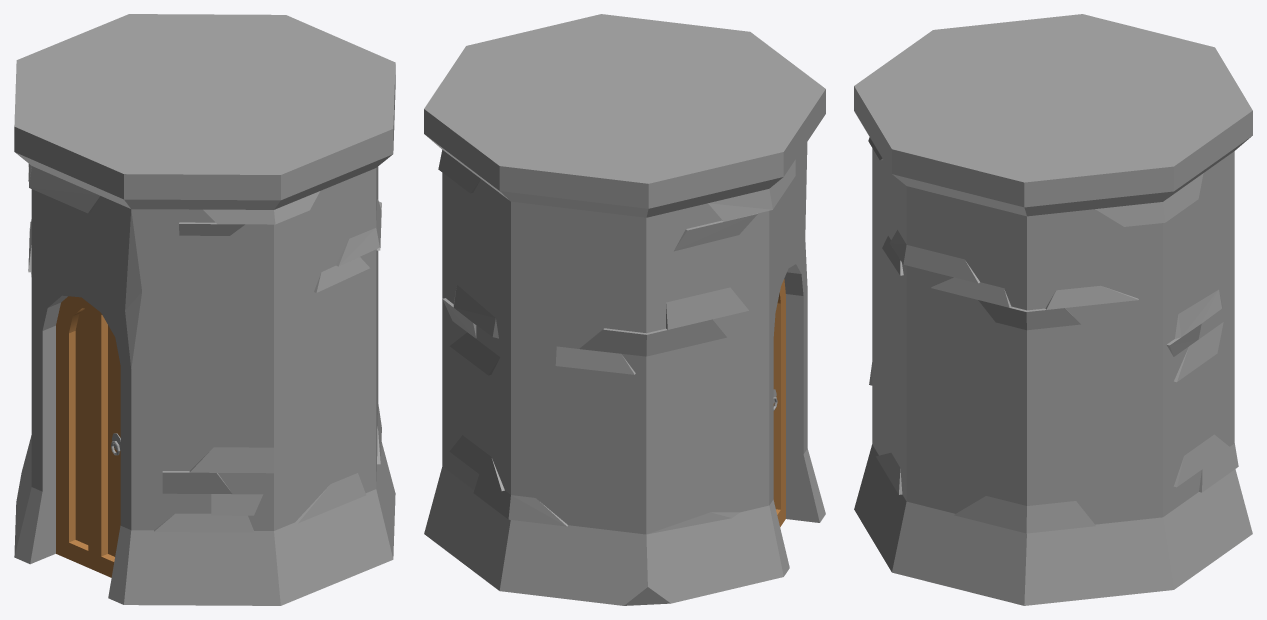
File: Tower.fbx
3 renders of one model, left to right at view 1: azimuth 30°, elevation 25°; view 2: azimuth 150°, elevation 25°; view 3: azimuth 270°, elevation 25°, orthographic.
Visible parts, largest first — view 1: Group2, Group3; view 2: Group2, Group3; view 3: Group2.
Boxes of the visible parts, <box> form: Group2: <box>14,14,395,605</box>; Group3: <box>56,296,120,577</box>; Group2: <box>424,14,825,605</box>; Group3: <box>773,279,785,526</box>; Group2: <box>854,14,1252,605</box>.
Size of the model in its own units: 2177 by 2550 by 2177.
